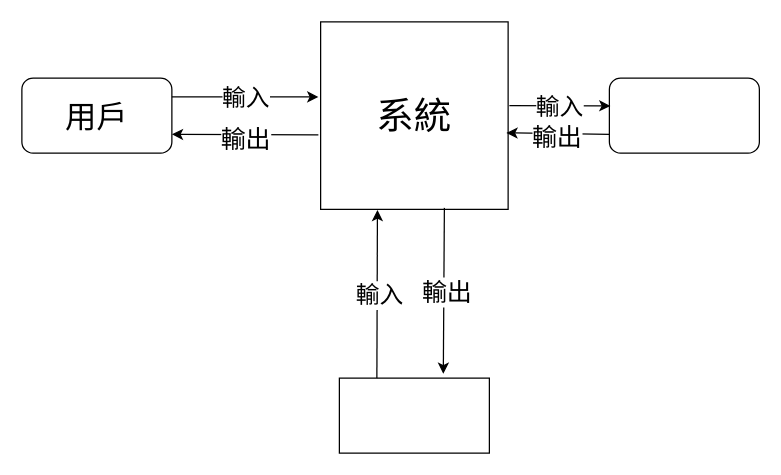
The diagram is 781 pixels wide and 475 high, and some of its shapes have lost their labels. Each missing label, with the box of its shape:
數據庫: (338, 377, 489, 453)
管理員: (608, 77, 759, 153)
